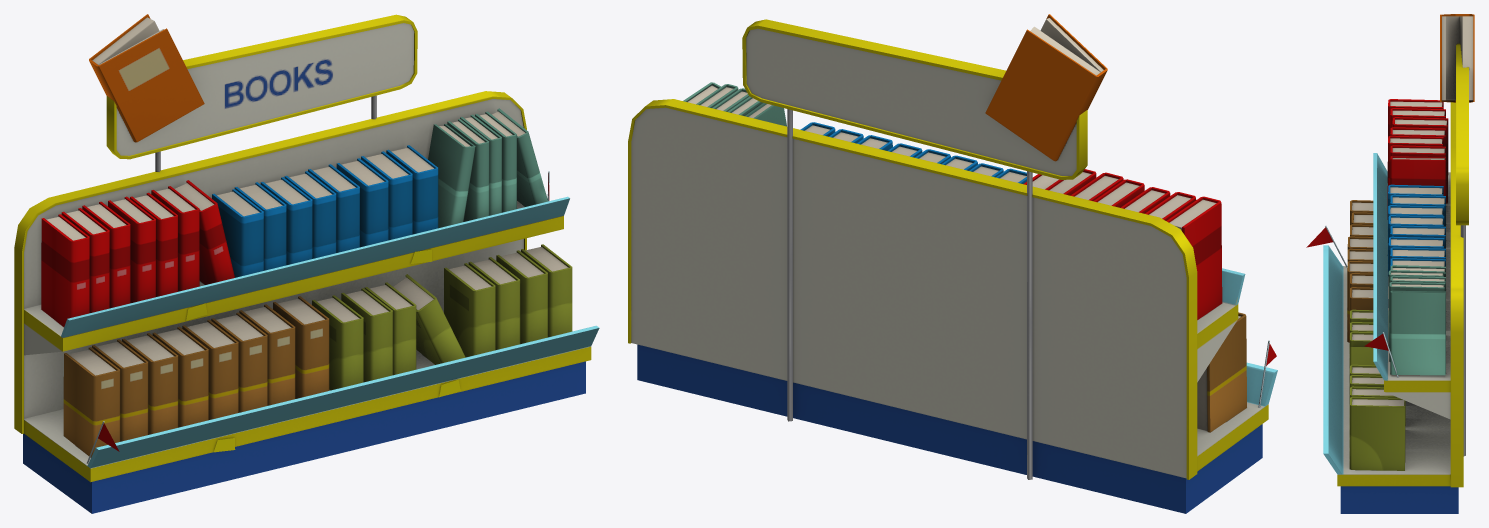
File: interior_shelf_books_001_mesh.FBX
3 renders of one model, left to right at view 1: azimuth 30°, elevation 25°; view 2: azimuth 150°, elevation 25°; view 3: azimuth 270°, elevation 25°, orthographic. The views are drawn at different scales.
Visible parts, largest first — view 1: interior_shelf_books_001_gr; view 2: interior_shelf_books_001_gr; view 3: interior_shelf_books_001_gr.
Boxes of the visible parts, x1,y1,x2,y2 form: interior_shelf_books_001_gr: (14,14,599,513); interior_shelf_books_001_gr: (628,14,1277,513); interior_shelf_books_001_gr: (1306,14,1474,513).
Bounding box in the file's own units: 29.58 × 22.93 × 10.01.
